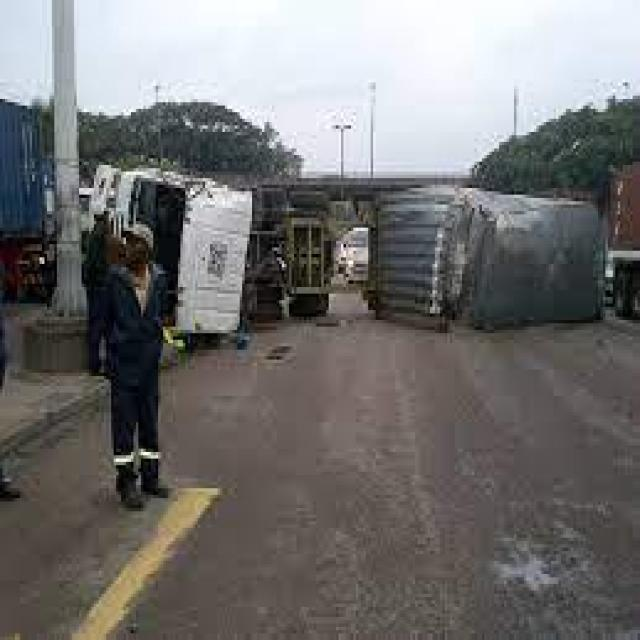severe: (85, 147, 612, 345)
